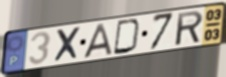3: (28, 30, 53, 67)
7: (148, 11, 176, 53)
A: (82, 22, 113, 60)
D: (112, 18, 142, 56)
R: (175, 9, 205, 47)
X: (53, 26, 82, 64)
